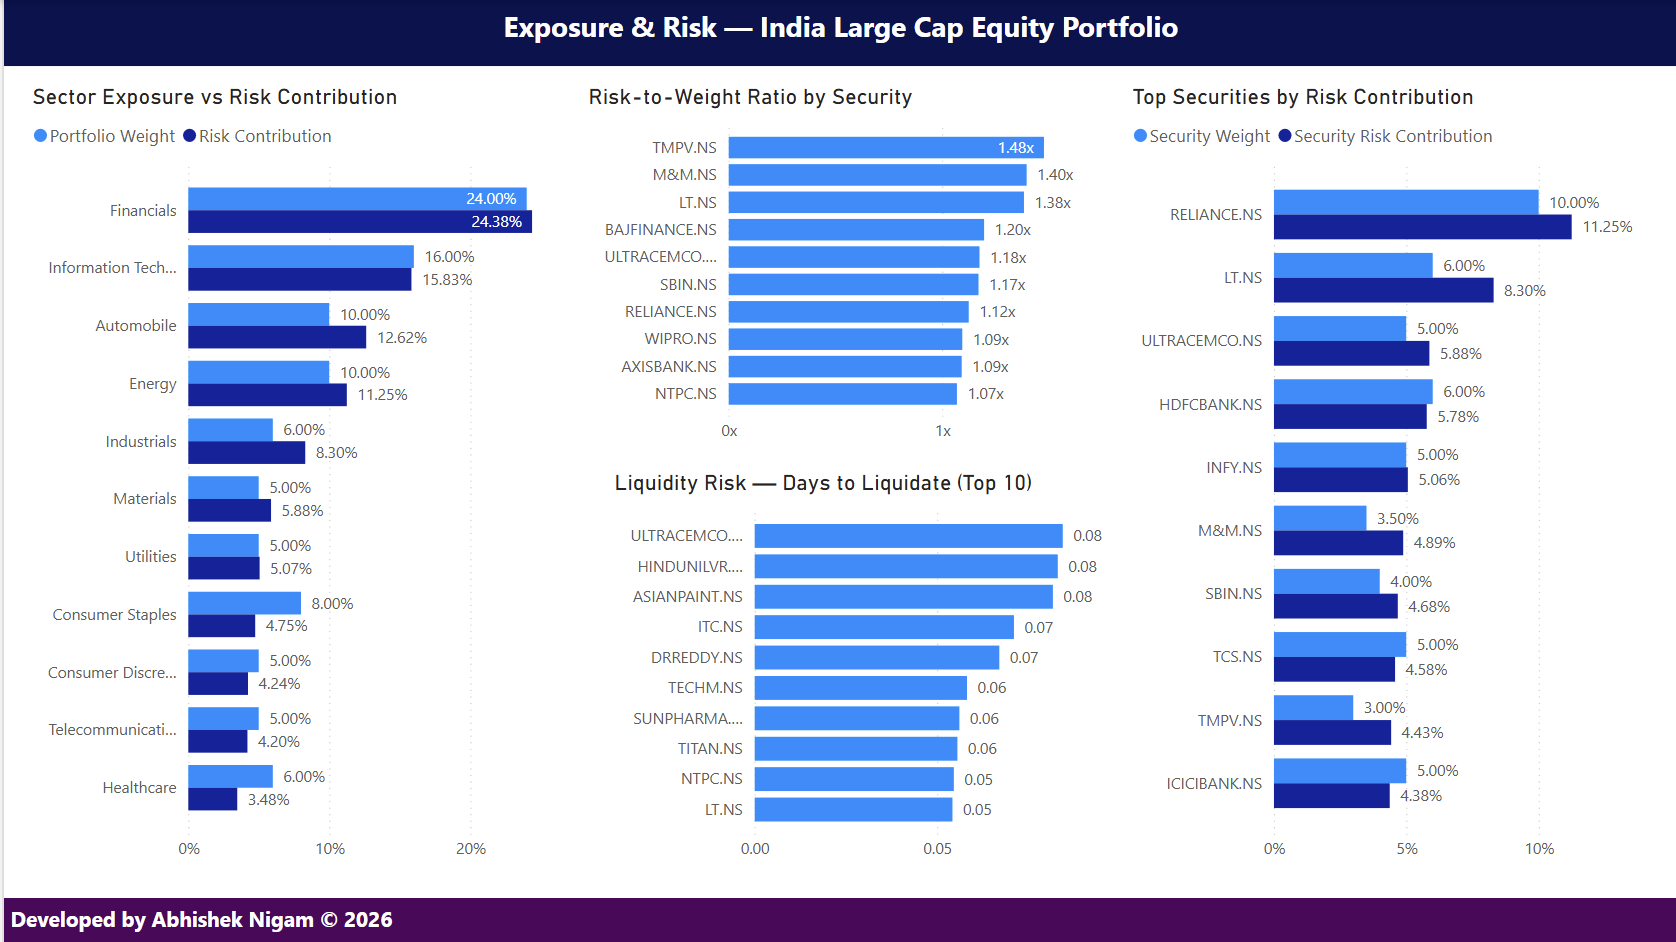

The dashboard page shown, as its layout file describes it:
{"tool":"powerbi","page":{"name":"Exposure & Risk","canvas":[1280,720],"ordinal":1},"visuals":[{"type":"textbox","box":[0,0,1280,50.7],"z":0},{"type":"clusteredBarChart","title":"Sector Exposure vs Risk Contribution","fields":{"Category":["risk_platform vw_sector_risk_profile.sector"],"Y":["risk_platform vw_sector_risk_profile.Sector Weight Display","risk_platform vw_sector_risk_profile.Sector Risk Contribution Display"]},"box":[16.8,64.2,445,602.5],"z":1000},{"type":"clusteredBarChart","title":"Top Securities by Risk Contribution","fields":{"Category":["risk_platform vw_security_risk_profile.ticker"],"Y":["risk_platform vw_security_risk_profile.Security Weight","risk_platform vw_security_risk_profile.Security Risk Contribution"]},"box":[857.9,64.2,408.3,602.5],"z":2000},{"type":"clusteredBarChart","title":"Risk-to-Weight Ratio by Security","fields":{"Category":["risk_platform vw_security_risk_profile.ticker"],"Y":["risk_platform vw_security_risk_profile.Risk to Weight Ratio"]},"box":[442,64.2,396.1,282.9],"z":3000},{"type":"clusteredBarChart","title":"Liquidity Risk — Days to Liquidate (Top 10)","fields":{"Category":["risk_platform vw_security_risk_profile.ticker"],"Y":["risk_platform vw_security_risk_profile.Days to Liquidate"]},"box":[461.8,359.4,396.1,307.4],"z":4000},{"type":"textbox","box":[0,686.6,1280,35.2],"z":4001}]}

Visuals, with their boxes in screenshot pixels (x1, y1, x2, y2), scaled from the page's 1280x720 canvas onto the 1676x942 screenshot:
textbox: [0, 0, 1675, 66]
"Sector Exposure vs Risk Contribution" clusteredBarChart: [22, 84, 605, 872]
"Top Securities by Risk Contribution" clusteredBarChart: [1123, 84, 1658, 872]
"Risk-to-Weight Ratio by Security" clusteredBarChart: [579, 84, 1097, 454]
"Liquidity Risk — Days to Liquidate (Top 10)" clusteredBarChart: [605, 470, 1123, 872]
textbox: [0, 898, 1675, 941]
